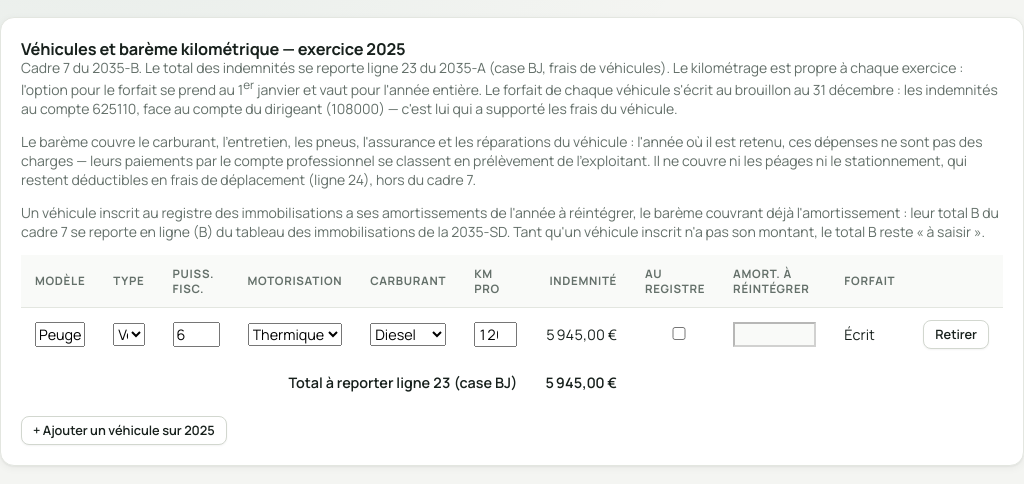
Test: retirer un véhicule : ce qui part se dit AVANT de partir › retire par la base quand la confirmation est acceptée
The image size is (1024, 484).
Click the button "Retirer". click: (956, 334)
box: 923,320 -> 989,349
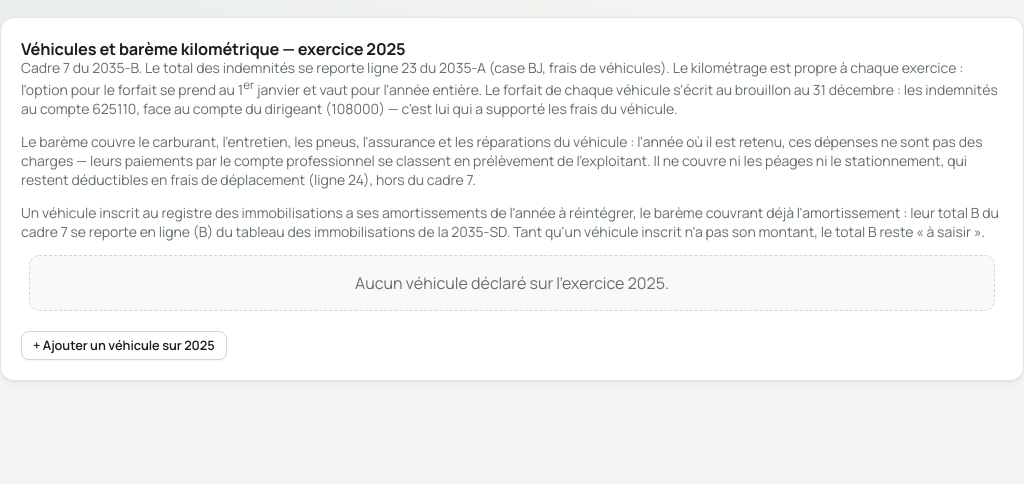
Now the text "Aucun véhicule déclaré sur l'exercice 2025." is shown, box 29,255 -> 995,311
